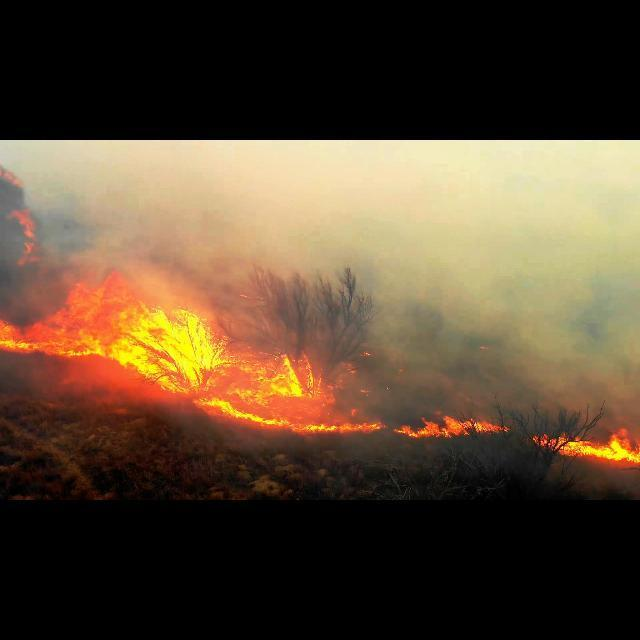Fire: (76, 284, 212, 384), (202, 344, 322, 414), (0, 298, 86, 358), (552, 430, 640, 474), (397, 405, 498, 437), (251, 416, 391, 439)
Smoke: (1, 141, 640, 283), (214, 284, 640, 342), (328, 344, 640, 414)
